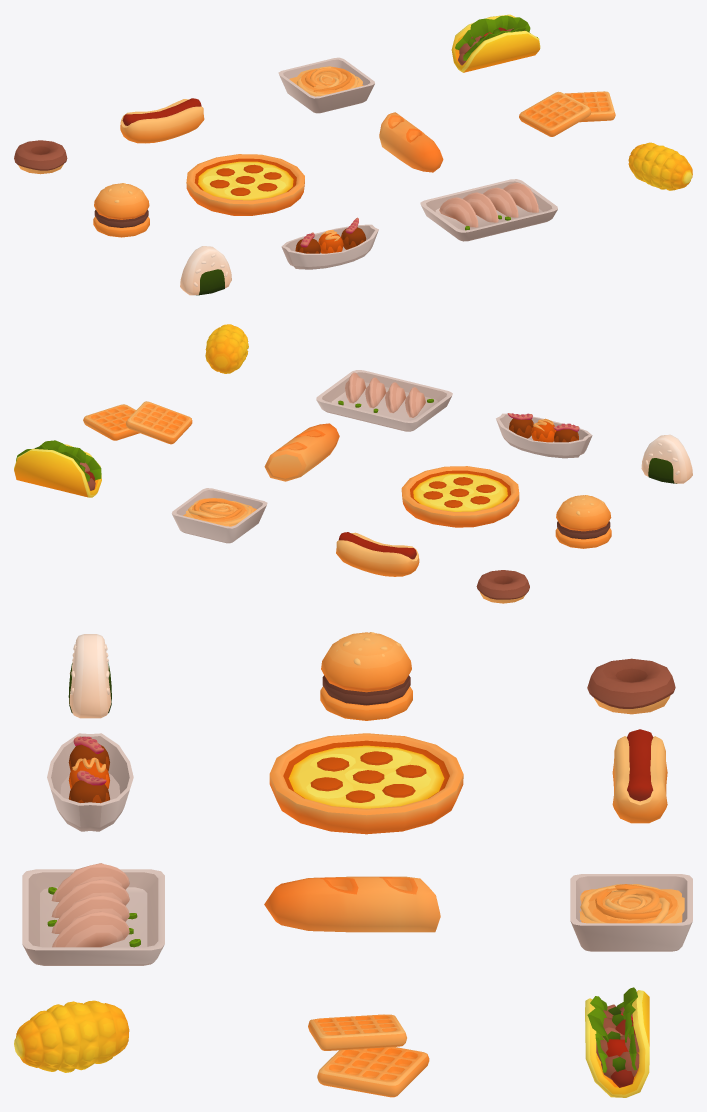
3 renders of one model, top to bottom at view 1: azimuth 30°, elevation 25°; view 2: azimuth 150°, elevation 25°; view 3: azimuth 270°, elevation 25°, orthographic. The views are drawn at different scales.
Parts seen in each view (by area): view 1: F_Europe_Pizza_Pepperoni_LOD0, F_Asia_Dumplings_LOD0, F_Latin_Taco_Classic_LOD0, F_Europe_Pasta_LOD0, F_Asia_Takoyaki_Small_LOD0, F_Europe_Bakery_Waffles_LOD0, F_Europe_Hotdog_Hotdog_Classic_LOD0, F_Europe_Burger_Hamburger_LOD0, F_Europe_Bakery_French_Baguette_Half_LOD0, F_Latin_Corn_LOD0, F_Asia_Onigiri_LOD0, F_Europe_Bakery_Donut_Chocolate_LOD0; view 2: F_Europe_Pizza_Pepperoni_LOD0, F_Asia_Dumplings_LOD0, F_Europe_Pasta_LOD0, F_Latin_Taco_Classic_LOD0, F_Asia_Takoyaki_Small_LOD0, F_Europe_Bakery_Waffles_LOD0, F_Europe_Hotdog_Hotdog_Classic_LOD0, F_Europe_Burger_Hamburger_LOD0, F_Europe_Bakery_French_Baguette_Half_LOD0, F_Asia_Onigiri_LOD0, F_Latin_Corn_LOD0, F_Europe_Bakery_Donut_Chocolate_LOD0; view 3: F_Europe_Pizza_Pepperoni_LOD0, F_Asia_Dumplings_LOD0, F_Europe_Pasta_LOD0, F_Europe_Bakery_French_Baguette_Half_LOD0, F_Europe_Bakery_Waffles_LOD0, F_Europe_Burger_Hamburger_LOD0, F_Asia_Takoyaki_Small_LOD0, F_Latin_Corn_LOD0, F_Latin_Taco_Classic_LOD0, F_Europe_Hotdog_Hotdog_Classic_LOD0, F_Europe_Bakery_Donut_Chocolate_LOD0, F_Asia_Onigiri_LOD0.
Part boxes in pixels (x1=…): F_Europe_Pizza_Pepperoni_LOD0: x1=186, y1=154, x2=304, y2=215; F_Asia_Dumplings_LOD0: x1=420, y1=179, x2=557, y2=241; F_Latin_Taco_Classic_LOD0: x1=451, y1=14, x2=540, y2=72; F_Europe_Pasta_LOD0: x1=278, y1=57, x2=374, y2=113; F_Asia_Takoyaki_Small_LOD0: x1=281, y1=217, x2=378, y2=269; F_Europe_Bakery_Waffles_LOD0: x1=519, y1=91, x2=615, y2=136; F_Europe_Hotdog_Hotdog_Classic_LOD0: x1=120, y1=98, x2=204, y2=143; F_Europe_Burger_Hamburger_LOD0: x1=93, y1=183, x2=149, y2=237; F_Europe_Bakery_French_Baguette_Half_LOD0: x1=379, y1=112, x2=443, y2=172; F_Latin_Corn_LOD0: x1=628, y1=142, x2=692, y2=190; F_Asia_Onigiri_LOD0: x1=180, y1=246, x2=231, y2=295; F_Europe_Bakery_Donut_Chocolate_LOD0: x1=14, y1=140, x2=67, y2=174; F_Europe_Pizza_Pepperoni_LOD0: x1=401, y1=466, x2=519, y2=527; F_Asia_Dumplings_LOD0: x1=316, y1=370, x2=452, y2=431; F_Europe_Pasta_LOD0: x1=171, y1=488, x2=267, y2=543; F_Latin_Taco_Classic_LOD0: x1=14, y1=440, x2=101, y2=497; F_Asia_Takoyaki_Small_LOD0: x1=496, y1=413, x2=592, y2=458; F_Europe_Bakery_Waffles_LOD0: x1=83, y1=401, x2=192, y2=444; F_Europe_Hotdog_Hotdog_Classic_LOD0: x1=336, y1=532, x2=419, y2=576; F_Europe_Burger_Hamburger_LOD0: x1=555, y1=495, x2=611, y2=548; F_Europe_Bakery_French_Baguette_Half_LOD0: x1=264, y1=423, x2=339, y2=481; F_Asia_Onigiri_LOD0: x1=641, y1=434, x2=692, y2=483; F_Latin_Corn_LOD0: x1=205, y1=324, x2=248, y2=373; F_Europe_Bakery_Donut_Chocolate_LOD0: x1=476, y1=570, x2=529, y2=603; F_Europe_Pizza_Pepperoni_LOD0: x1=269, y1=733, x2=463, y2=834; F_Asia_Dumplings_LOD0: x1=22, y1=863, x2=164, y2=965; F_Europe_Pasta_LOD0: x1=570, y1=874, x2=692, y2=951; F_Europe_Bakery_French_Baguette_Half_LOD0: x1=264, y1=876, x2=440, y2=932; F_Europe_Bakery_Waffles_LOD0: x1=308, y1=1014, x2=429, y2=1097; F_Europe_Burger_Hamburger_LOD0: x1=320, y1=632, x2=412, y2=720; F_Asia_Takoyaki_Small_LOD0: x1=47, y1=733, x2=133, y2=831; F_Latin_Corn_LOD0: x1=14, y1=1000, x2=129, y2=1072; F_Latin_Taco_Classic_LOD0: x1=585, y1=987, x2=649, y2=1097; F_Europe_Hotdog_Hotdog_Classic_LOD0: x1=612, y1=729, x2=667, y2=823; F_Europe_Bakery_Donut_Chocolate_LOD0: x1=587, y1=658, x2=675, y2=714; F_Asia_Onigiri_LOD0: x1=68, y1=634, x2=111, y2=718.
Size of the model in its own units: 1.87 by 0.1545 by 1.29.
1 material, 1 textured.
